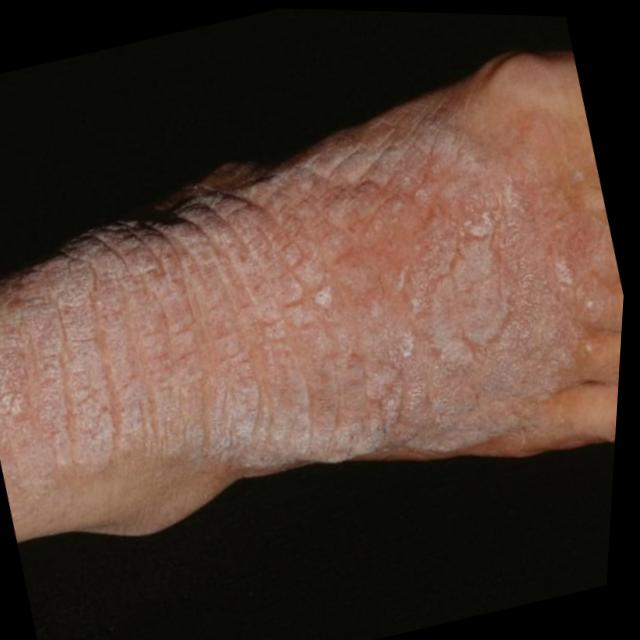Eczema: (42, 76, 620, 544)
